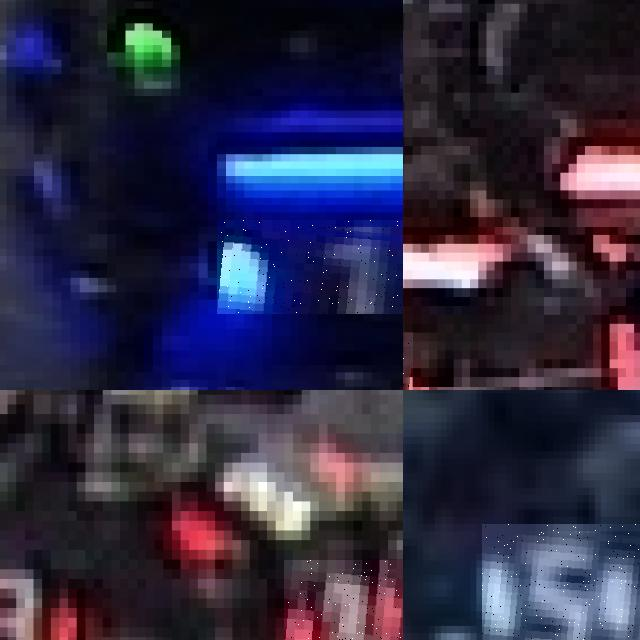B1: (216, 219, 403, 314)
B5: (482, 524, 640, 640)
R3: (284, 559, 403, 640), (0, 550, 85, 640)
